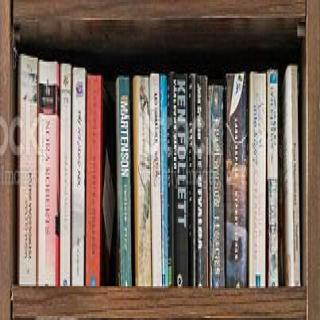book-spine: (226, 74, 248, 286), (39, 58, 58, 284), (248, 74, 267, 286), (208, 86, 226, 288), (22, 52, 37, 290), (172, 74, 188, 288), (136, 76, 151, 288), (118, 76, 133, 286), (194, 74, 208, 288), (72, 64, 85, 290), (88, 74, 100, 288), (289, 62, 300, 286), (268, 70, 278, 288), (152, 72, 162, 288), (61, 62, 70, 292), (188, 74, 197, 286), (162, 70, 168, 290)
